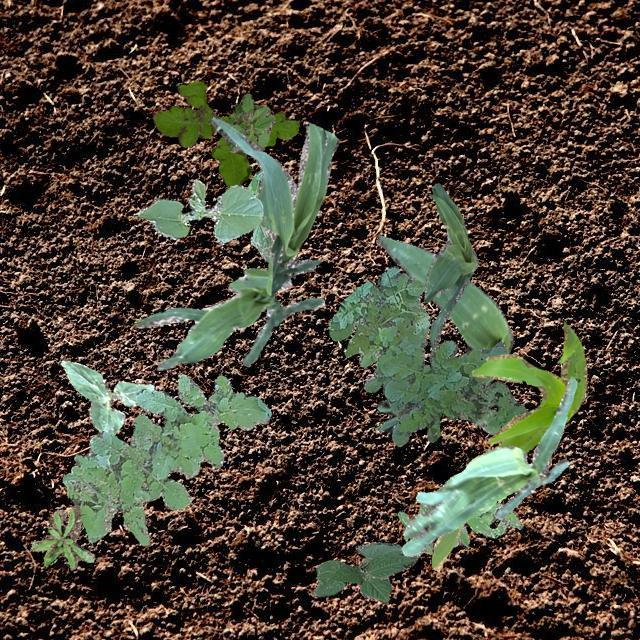crop: (431, 322, 586, 570), (400, 376, 576, 556), (377, 234, 512, 431), (210, 115, 338, 294), (132, 266, 324, 370), (422, 182, 478, 348), (132, 178, 262, 240), (59, 358, 152, 434), (313, 540, 417, 600), (472, 408, 500, 434)
weed: (328, 264, 526, 446), (62, 373, 270, 544), (152, 80, 298, 186), (396, 502, 522, 556), (215, 170, 272, 260), (30, 504, 94, 568), (224, 92, 274, 152)
